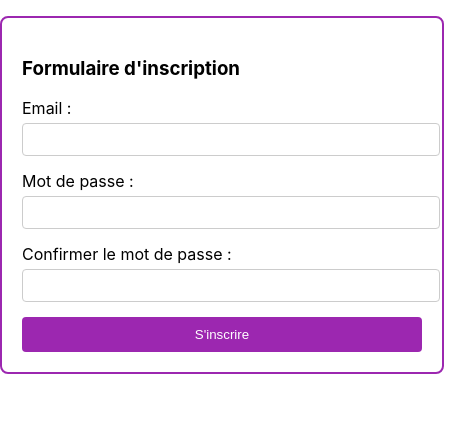
Test: affiche une erreur quand le champ email est vide
Click the button "S'inscrire". click: click(222, 335)
box: [22,317,422,352]
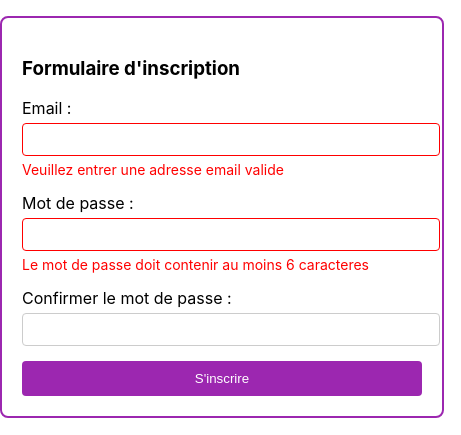
Expected: the text "Veuillez entrer une adresse email valide" is shown, [22,161,284,178]
